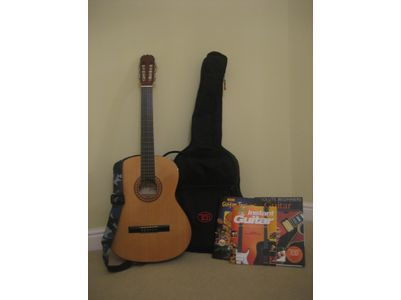guitar: (108, 54, 192, 265)
